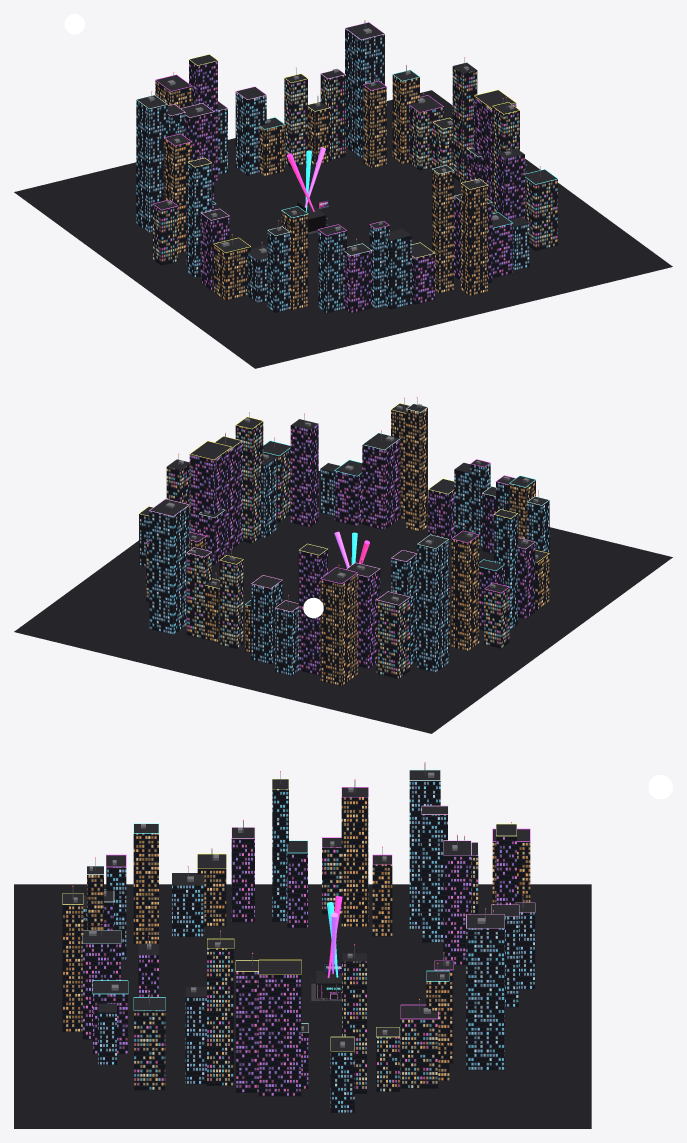
The model's file is world.glb.
The picture shows the model from 3 angles, top to bottom: view 1: azimuth 30°, elevation 25°; view 2: azimuth 150°, elevation 25°; view 3: azimuth 270°, elevation 25°; orthographic projection. The views are drawn at different scales.
Visible parts, largest first — view 1: GROUND_Asphalt, SKYLINE_07, SKYLINE_19, SKYLINE_36, SKYLINE_35, SKYLINE_02, SKYLINE_41, SKYLINE_12, SKYLINE_30, SKYLINE_24, SKYLINE_21, SKYLINE_29 (+29 smaller); view 2: GROUND_Asphalt, SKYLINE_07, SKYLINE_19, SKYLINE_15, SKYLINE_37, SKYLINE_21, SKYLINE_40, SKYLINE_17, SKYLINE_45, SKYLINE_14, SKYLINE_35, SKYLINE_43 (+27 smaller); view 3: GROUND_Asphalt, SKYLINE_07, SKYLINE_45, SKYLINE_43, SKYLINE_21, SKYLINE_18, SKYLINE_16, SKYLINE_04, SKYLINE_29, SKYLINE_44, SKYLINE_41, SKYLINE_36 (+25 smaller).
Part boxes in pixels (x1=…): GROUND_Asphalt: x1=14, y1=90, x2=672, y2=368; SKYLINE_07: x1=345, y1=22, x2=384, y2=158; SKYLINE_19: x1=136, y1=95, x2=167, y2=232; SKYLINE_36: x1=461, y1=179, x2=487, y2=296; SKYLINE_35: x1=432, y1=165, x2=453, y2=293; SKYLINE_02: x1=452, y1=62, x2=477, y2=182; SKYLINE_41: x1=525, y1=169, x2=557, y2=250; SKYLINE_12: x1=235, y1=87, x2=266, y2=175; SKYLINE_30: x1=318, y1=224, x2=346, y2=313; SKYLINE_24: x1=187, y1=158, x2=211, y2=277; SKYLINE_21: x1=164, y1=134, x2=191, y2=253; SKYLINE_29: x1=281, y1=206, x2=308, y2=310; GROUND_Asphalt: x1=14, y1=471, x2=672, y2=733; SKYLINE_07: x1=149, y1=499, x2=189, y2=634; SKYLINE_19: x1=417, y1=535, x2=448, y2=672; SKYLINE_15: x1=320, y1=567, x2=357, y2=686; SKYLINE_37: x1=362, y1=433, x2=400, y2=529; SKYLINE_21: x1=451, y1=531, x2=479, y2=651; SKYLINE_40: x1=290, y1=419, x2=318, y2=527; SKYLINE_17: x1=376, y1=592, x2=410, y2=678; SKYLINE_45: x1=189, y1=441, x2=231, y2=553; SKYLINE_14: x1=298, y1=544, x2=327, y2=675; SKYLINE_35: x1=406, y1=404, x2=427, y2=531; SKYLINE_43: x1=235, y1=417, x2=263, y2=543; GROUND_Asphalt: x1=14, y1=884, x2=591, y2=1128; SKYLINE_07: x1=466, y1=914, x2=504, y2=1070; SKYLINE_45: x1=258, y1=960, x2=301, y2=1096; SKYLINE_43: x1=207, y1=939, x2=233, y2=1085; SKYLINE_21: x1=341, y1=787, x2=368, y2=926; SKYLINE_18: x1=421, y1=806, x2=447, y2=942; SKYLINE_16: x1=443, y1=841, x2=471, y2=964; SKYLINE_04: x1=400, y1=1005, x2=438, y2=1088; SKYLINE_29: x1=133, y1=824, x2=158, y2=944; SKYLINE_44: x1=236, y1=960, x2=258, y2=1092; SKYLINE_41: x1=134, y1=997, x2=165, y2=1090; SKYLINE_36: x1=62, y1=893, x2=83, y2=1031.
Bounding box in the file's own units: 420 × 130 × 479.
61 materials, 10 textured.
